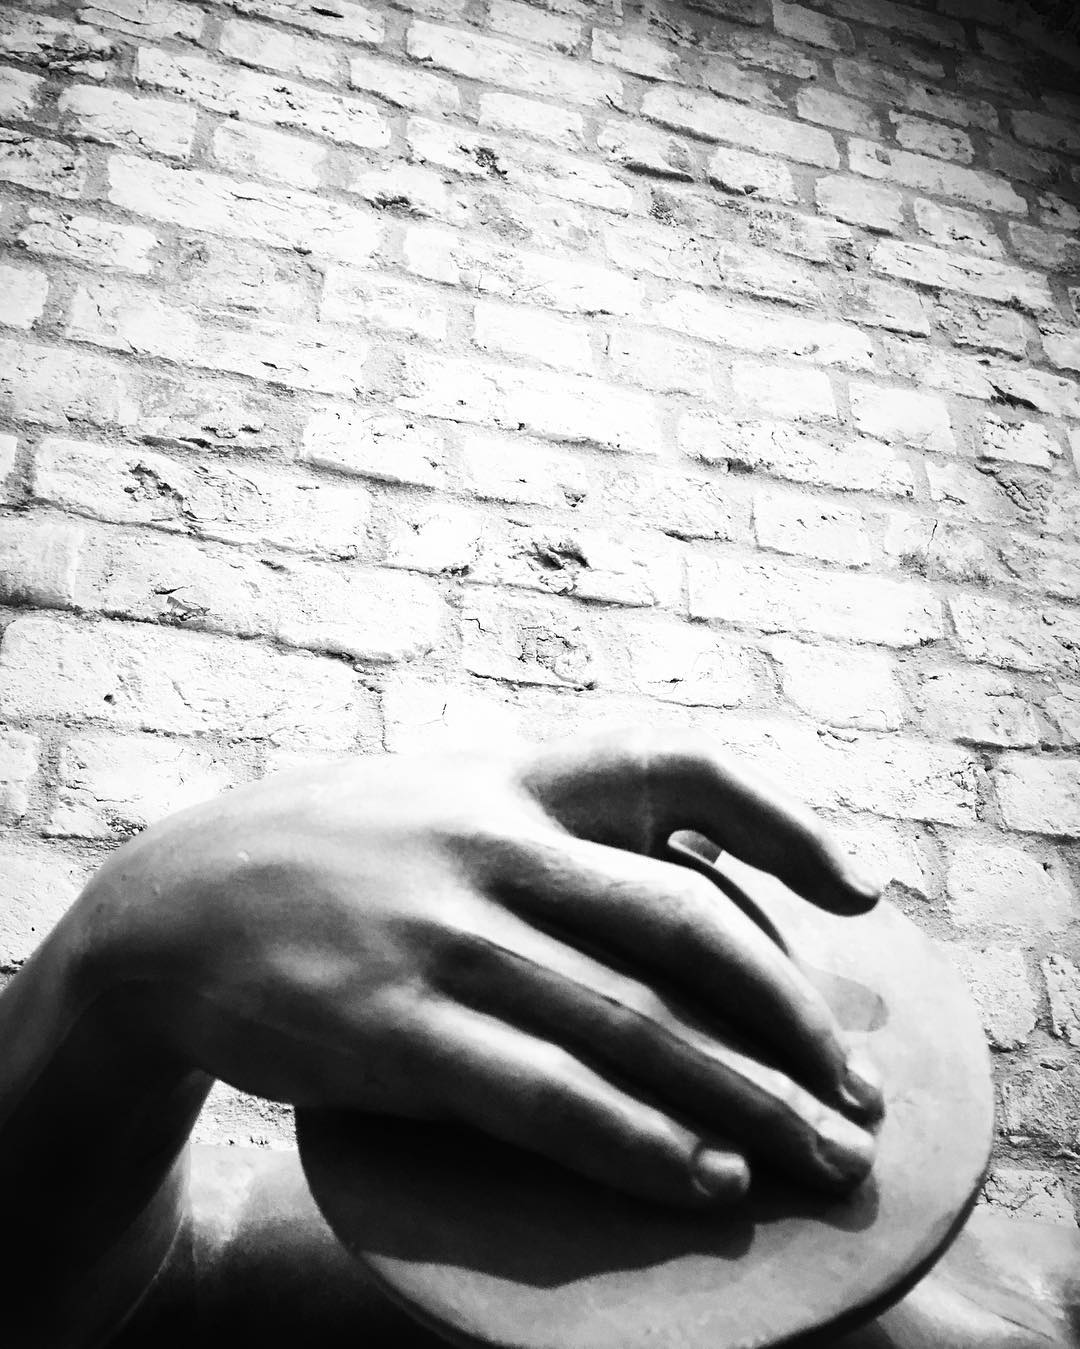hand: (74, 747, 870, 1163)
